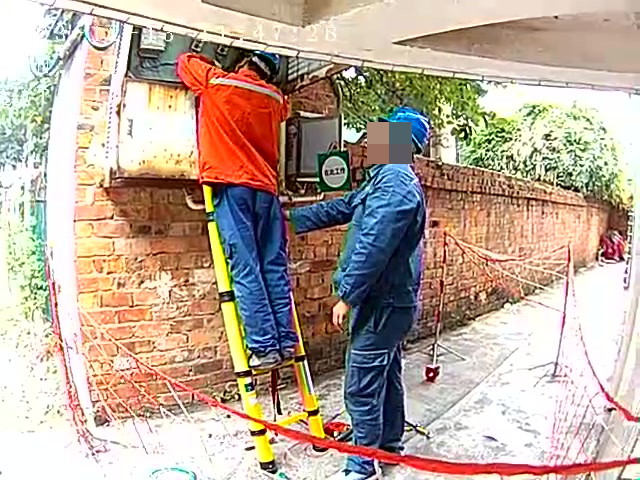downsuit: (218, 192, 298, 350), (342, 310, 415, 465)
halt: (366, 107, 428, 160), (231, 52, 281, 78)
hand: (328, 299, 348, 329)
inear: (374, 125, 406, 156)
person: (330, 103, 435, 476), (180, 47, 305, 359)
upsuit: (287, 153, 428, 295)
worksign: (316, 150, 350, 189)
yupsuit: (175, 50, 291, 189)
